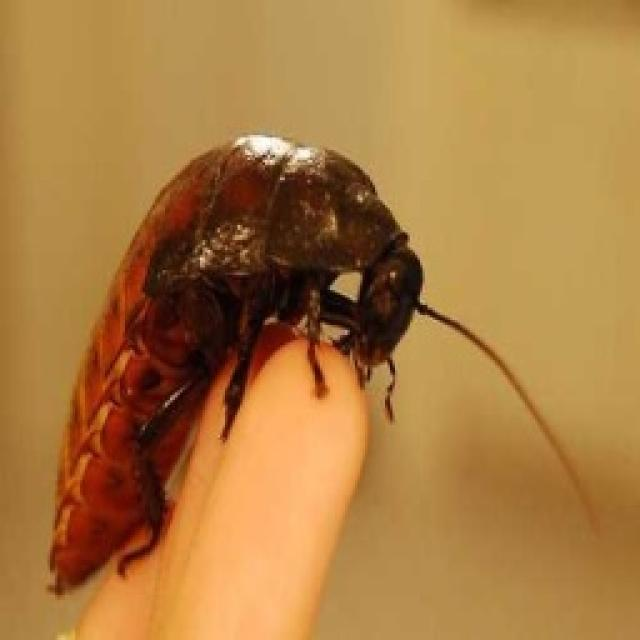cockroach: (46, 129, 602, 604)
